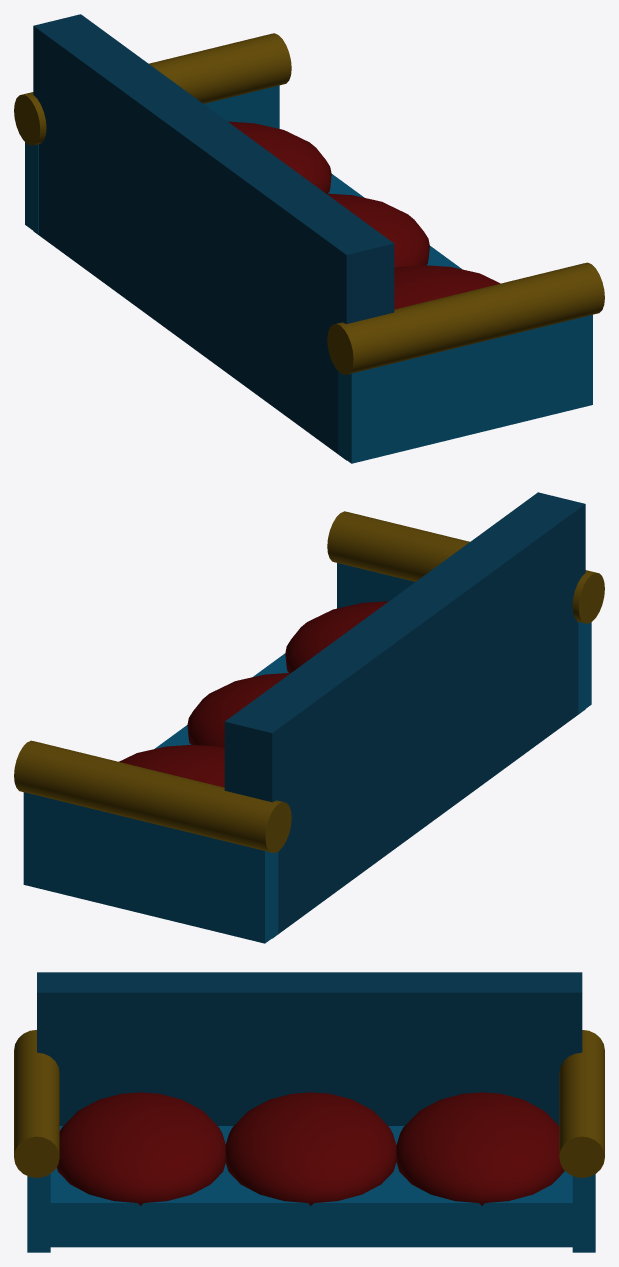
The model's file is couch.fbx.
The picture shows the model from 3 angles, top to bottom: view 1: azimuth 30°, elevation 25°; view 2: azimuth 150°, elevation 25°; view 3: azimuth 270°, elevation 25°; orthographic projection. The views are drawn at different scales.
Parts seen in each view (by area): view 1: pCube2, pCube3, pCylinder1, pasted__pCylinder1, pasted__pCube3, pasted__pSphere1, pSphere1, pasted__pasted__pSphere1, pCube1; view 2: pCube2, pasted__pCube3, pasted__pCylinder1, pCylinder1, pCube3, pasted__pSphere1, pasted__pasted__pSphere1, pSphere1, pCube1; view 3: pCube2, pCube1, pasted__pSphere1, pSphere1, pasted__pasted__pSphere1, pCylinder1, pasted__pCylinder1, pCube3, pasted__pCube3.
Part boxes in pixels (x1,y1,x2,y2): pCube2: (33, 14, 394, 460); pCube3: (338, 314, 592, 463); pCylinder1: (327, 262, 604, 374); pasted__pCylinder1: (14, 33, 291, 145); pasted__pCube3: (25, 85, 279, 234); pasted__pSphere1: (326, 193, 429, 267); pSphere1: (394, 265, 500, 309); pasted__pasted__pSphere1: (228, 121, 331, 193); pCube1: (328, 174, 462, 269); pCube2: (224, 492, 585, 938); pasted__pCube3: (23, 792, 278, 943); pasted__pCylinder1: (14, 740, 291, 853); pCylinder1: (327, 511, 604, 623); pCube3: (337, 563, 591, 714); pasted__pSphere1: (187, 673, 290, 747); pasted__pasted__pSphere1: (119, 745, 224, 787); pSphere1: (285, 601, 388, 672); pCube1: (155, 653, 288, 748); pCube2: (37, 972, 582, 1125); pCube1: (50, 1126, 572, 1247); pasted__pSphere1: (225, 1092, 396, 1205); pSphere1: (56, 1092, 225, 1205); pasted__pasted__pSphere1: (396, 1092, 564, 1205); pCylinder1: (14, 1030, 59, 1177); pasted__pCylinder1: (559, 1030, 604, 1177); pCube3: (27, 1174, 50, 1252); pasted__pCube3: (572, 1174, 595, 1252).
Bounding box in the file's own units: 10.42 × 8.14 × 24.36.
